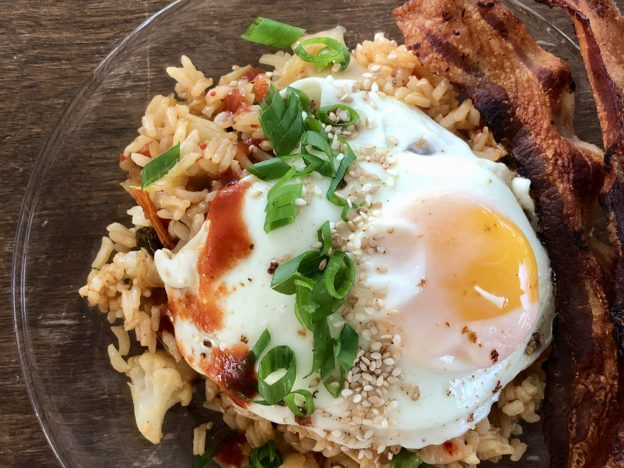fried egg: (217, 155, 528, 400)
